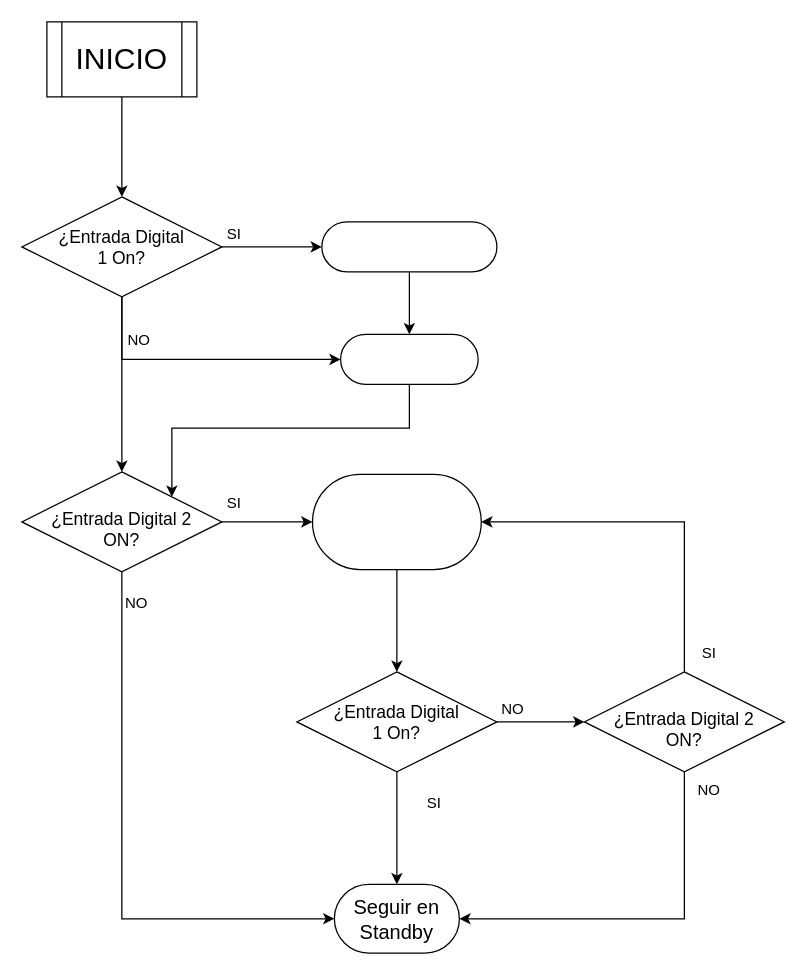
The diagram is 806 pixels wide and 975 high, and some of its shapes have lost their labels. The shapes that lost their labels are listed below. From the top down, each one's centre as x and y in pixels, then its label:
At (409,246): "Rutina Path_10 Activar Salida".
At (408,358): "Desactivar Salida".
At (396,521): "Ir a posición de Mantenimiento Activar Salida".
